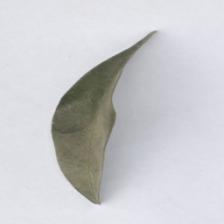healthy: (49, 30, 156, 206)
